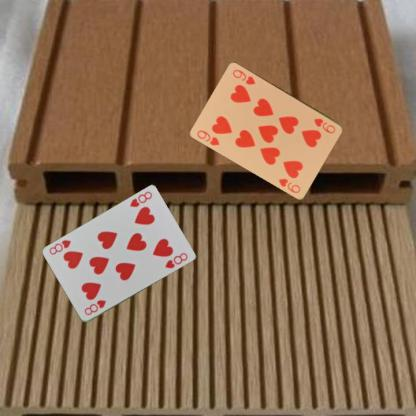8h: (127, 189, 153, 209), (82, 298, 108, 316)
9h: (194, 127, 220, 147), (311, 116, 337, 134)
